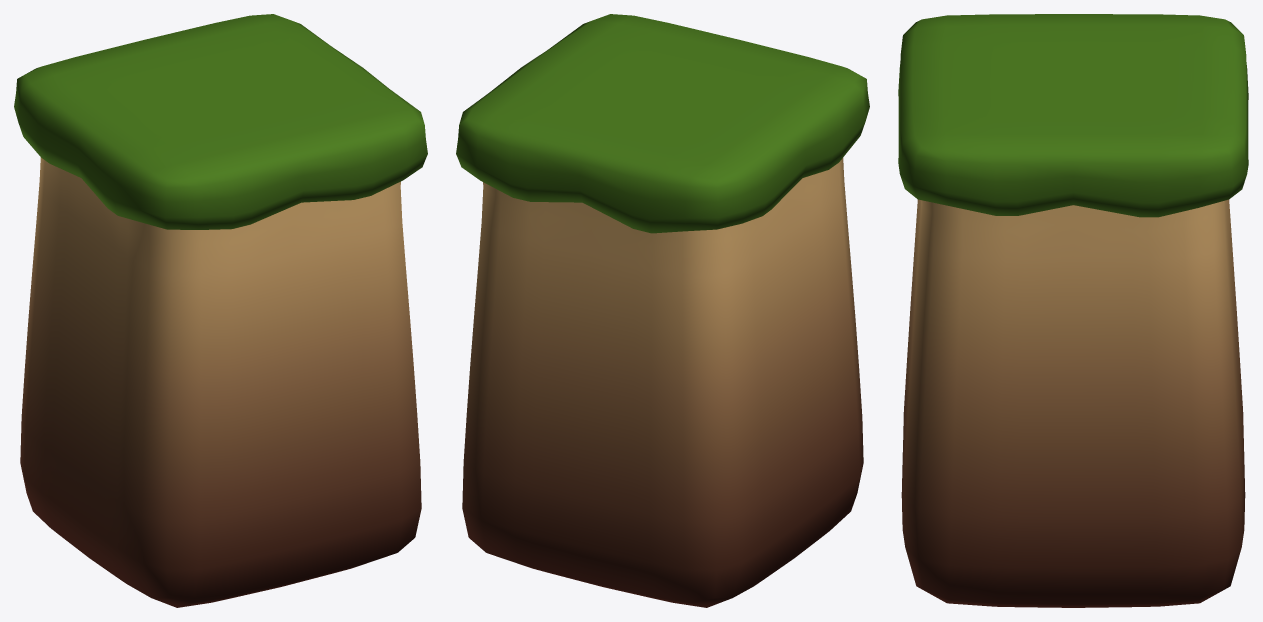
Rendered from TileGreen_3x3m.fbx.
3 views of the same model, side by side, from view 1: azimuth 30°, elevation 25°; view 2: azimuth 150°, elevation 25°; view 3: azimuth 270°, elevation 25° (orthographic). The views are drawn at different scales.
Parts seen in each view (by area): view 1: TileGreen_3x3m; view 2: TileGreen_3x3m; view 3: TileGreen_3x3m.
Part boxes in pixels (<box>): TileGreen_3x3m: <box>14,14,427,607</box>; TileGreen_3x3m: <box>456,14,869,607</box>; TileGreen_3x3m: <box>898,14,1248,607</box>.
Size of the model in its own units: 2 by 3 by 2.
